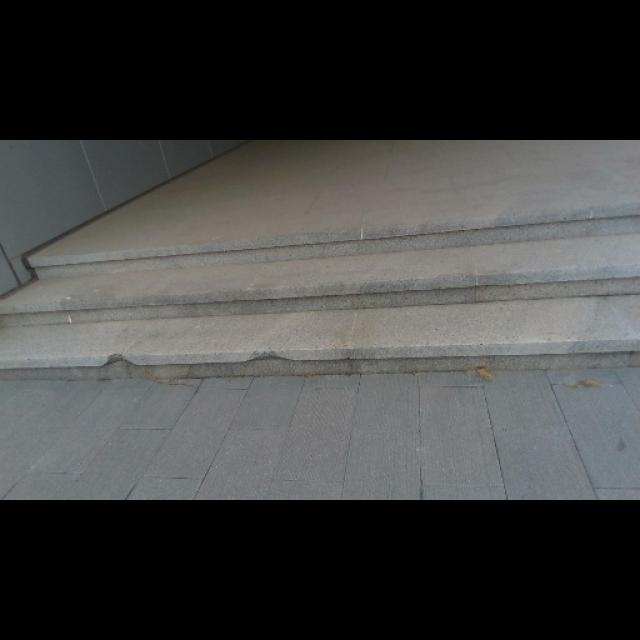Stairs: (0, 205, 639, 377)
